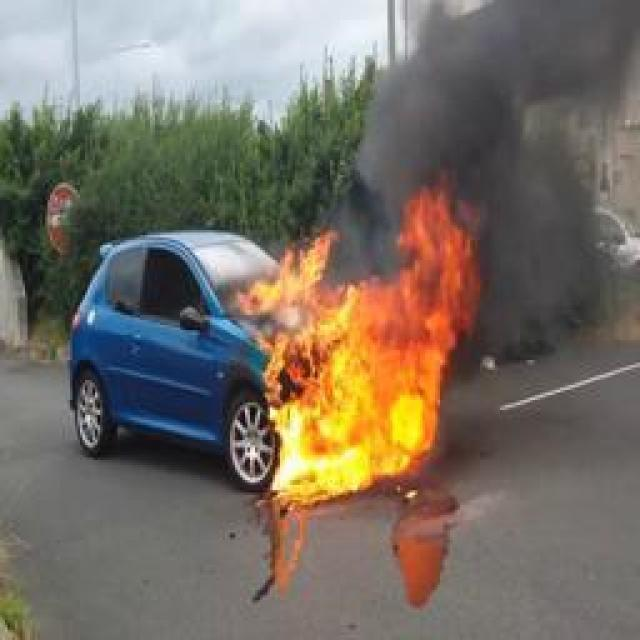Fire: (237, 179, 485, 499)
